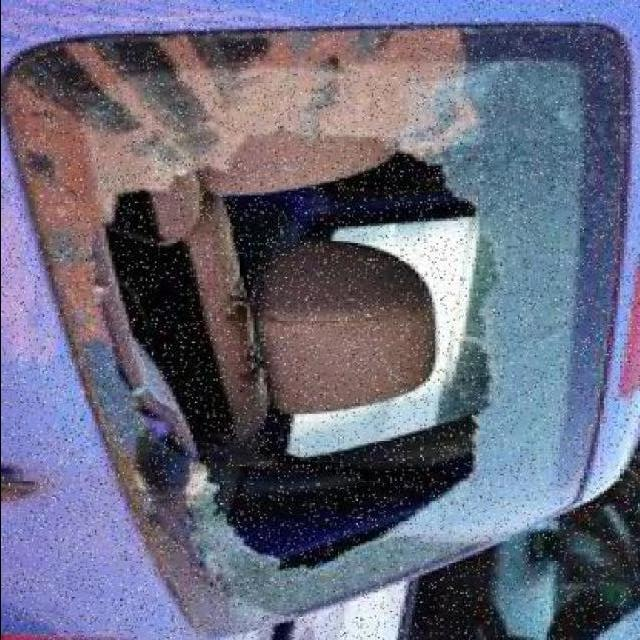Rear-windscreen-Damage: (3, 22, 640, 631)
